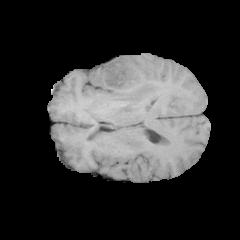glioma: (93, 55, 163, 109)
